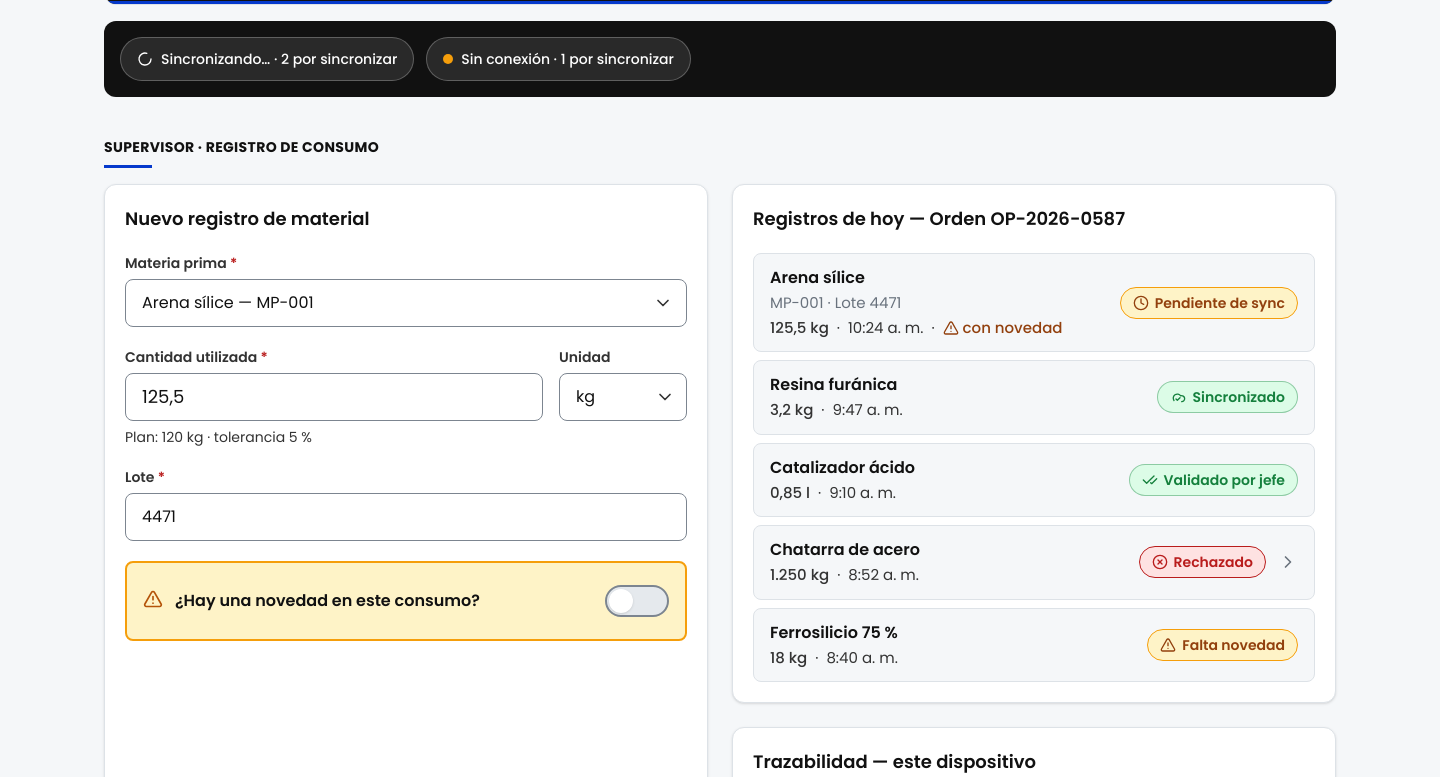
Página /diseno › bloquea la novedad cuando la cantidad supera el plan más la tolerancia
This screenshot has width=1440, height=777.
(page scrolled)
Replace the text in the field labelled "Cantidad utilizada *" with "130" at (334, 397), box [125,373,543,421]
(page scrolled)
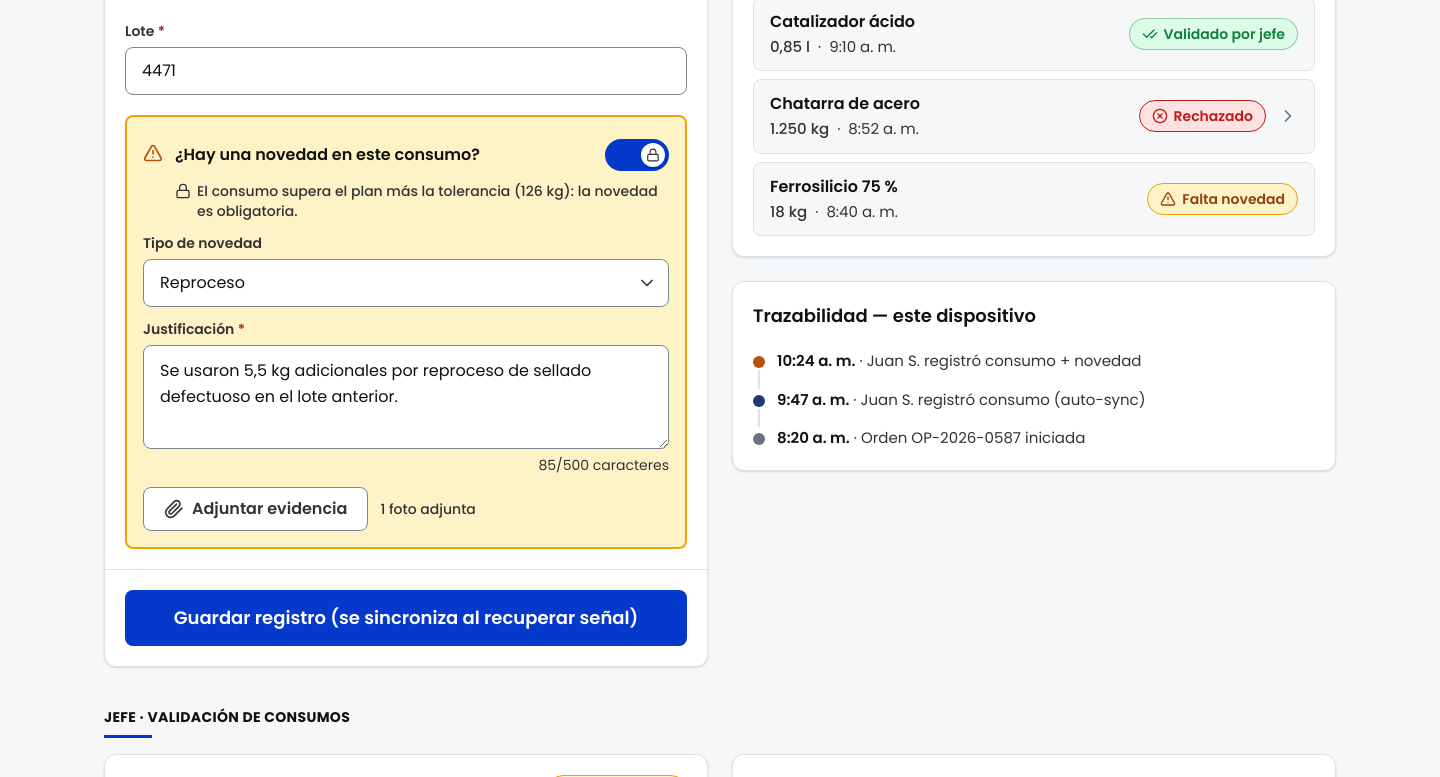
Result: the text box labelled "Justificación *" is shown at [143,345,669,449]
